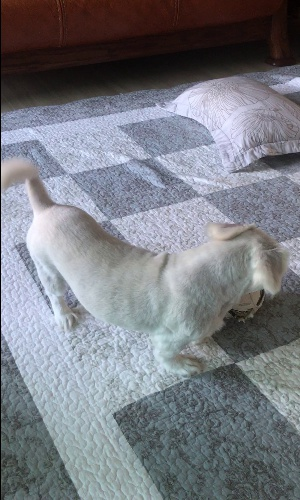ddubi: (1, 151, 290, 381)
